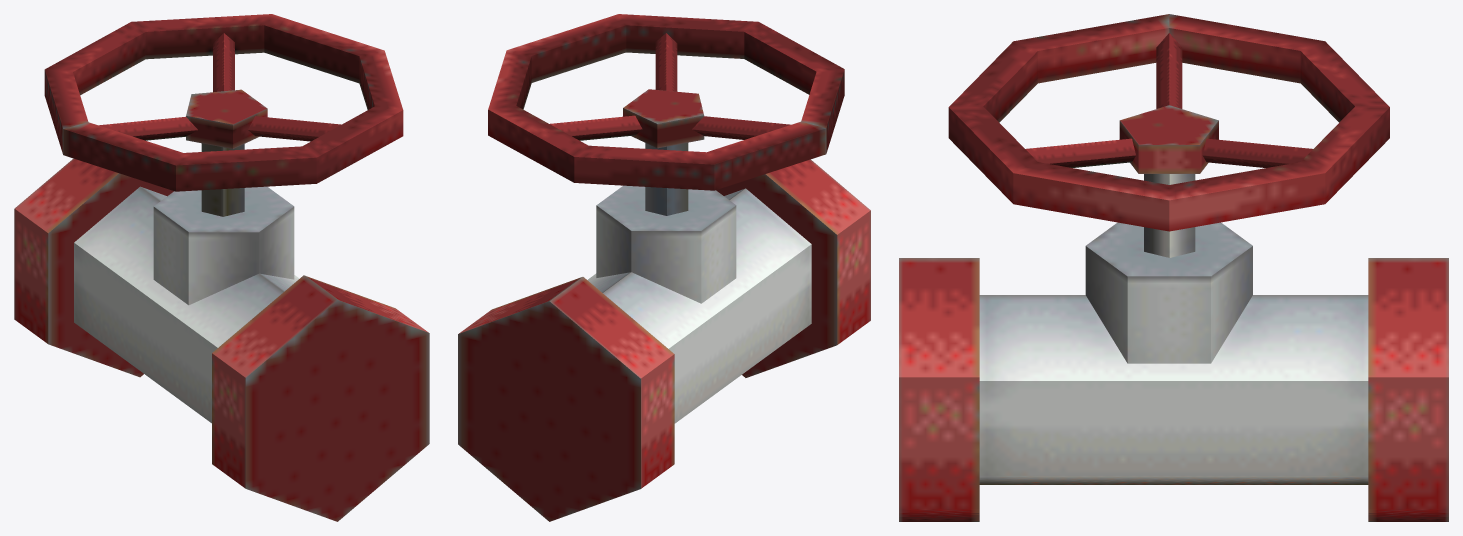
File: 旋转阀.obj
3 views of the same model, side by side, from view 1: azimuth 30°, elevation 25°; view 2: azimuth 150°, elevation 25°; view 3: azimuth 270°, elevation 25° (orthographic). The views are drawn at different scales.
Parts seen in each view (by area): view 1: default; view 2: default; view 3: default.
Part boxes in pixels (box(x1,y1,x2,y2)): default: box(14, 14, 429, 521); default: box(458, 14, 870, 521); default: box(899, 14, 1448, 521).
Size of the model in its own units: 0.6236 by 0.648 by 0.7772.
